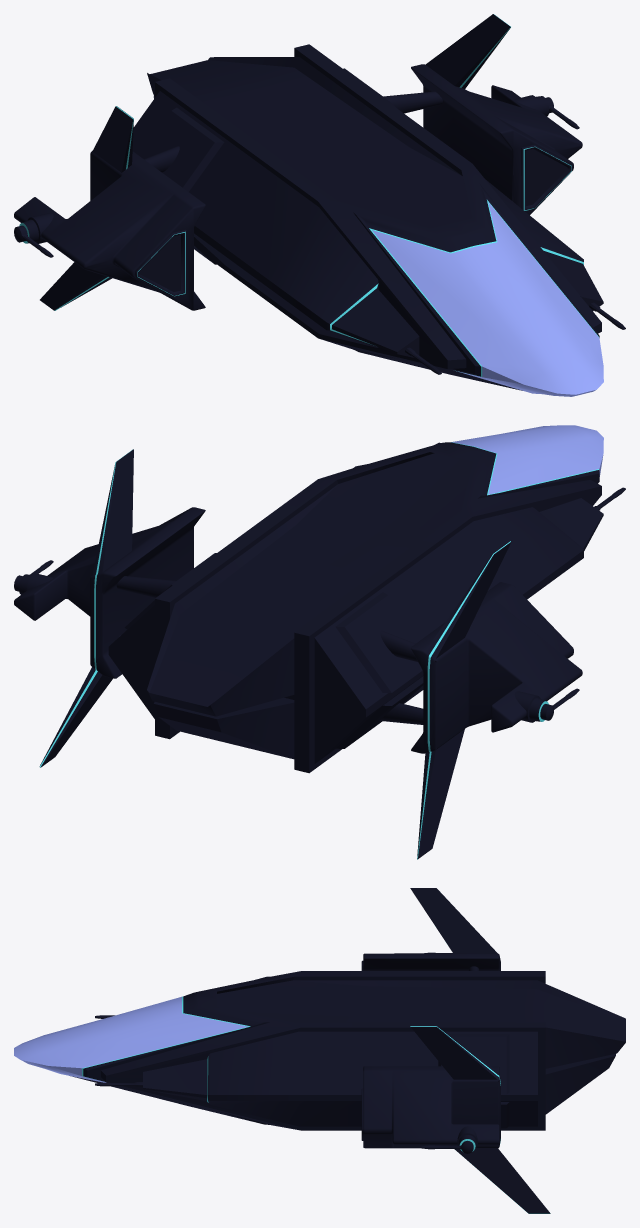
File: firespray.FBX
3 views of the same model, one above another, from view 1: azimuth 30°, elevation 25°; view 2: azimuth 150°, elevation 25°; view 3: azimuth 270°, elevation 25° (orthographic). The views are drawn at different scales.
Visible parts, largest first — view 1: firespraybody; view 2: firespraybody; view 3: firespraybody.
Boxes of the visible parts, x1,y1,x2,y2 form: firespraybody: [14, 14, 625, 396]; firespraybody: [14, 425, 625, 859]; firespraybody: [14, 888, 625, 1213].
Size of the model in its own units: 0.1913 by 0.0853 by 0.2519.
